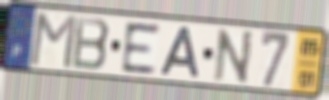7: (260, 28, 292, 90)
A: (158, 25, 202, 80)
B: (70, 14, 112, 72)
E: (120, 21, 162, 76)
M: (28, 11, 80, 72)
N: (212, 28, 256, 86)
